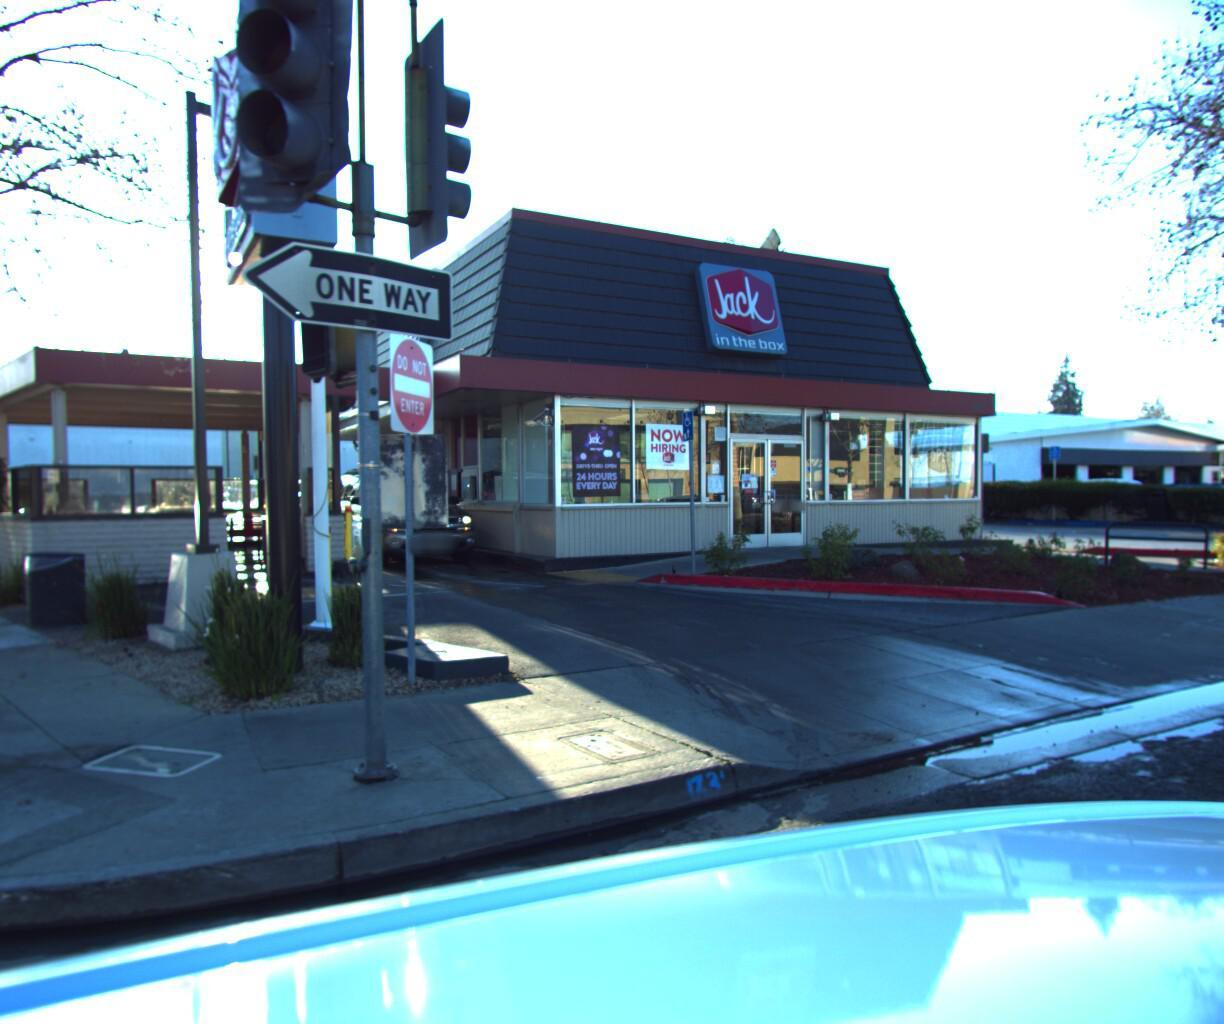car: (324, 462, 487, 574), (1029, 449, 1126, 482)
